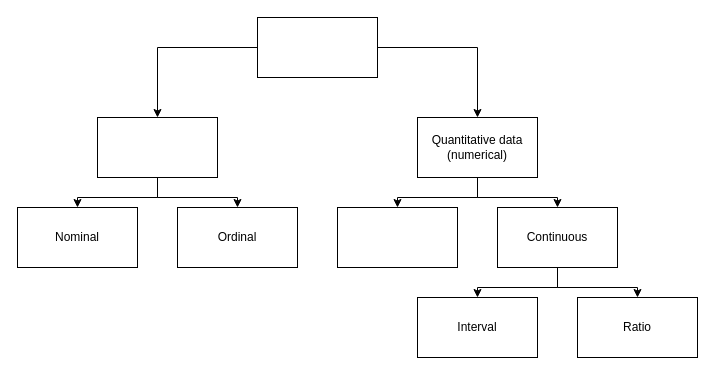
Some shapes in this 715 by 375 pixel diagram are drawn without their labels. The box of each missing label's shape, as (x1, y1, x2, y2) in pixels:
(Basic) types of data: (256, 16, 378, 78)
Discrete: (336, 206, 458, 268)
Qualitative data (categorical): (96, 116, 218, 178)
